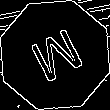M_SE: (23, 22, 87, 88)
